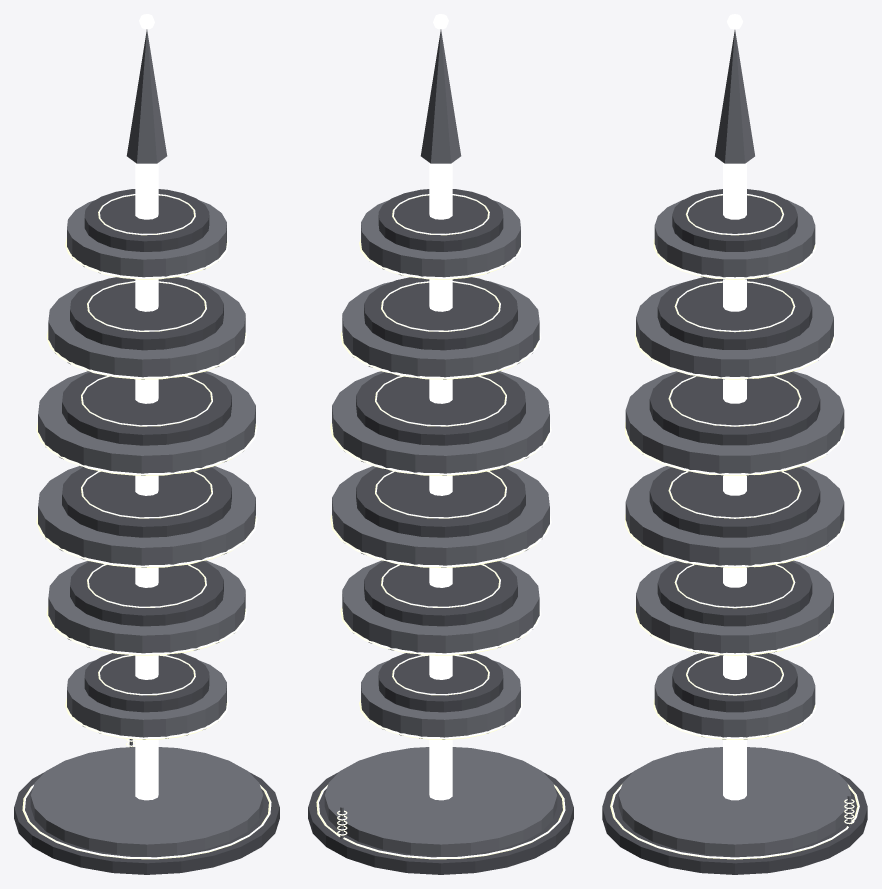
The model's file is zone_high_5_t5.glb.
3 renders of one model, left to right at view 1: azimuth 30°, elevation 25°; view 2: azimuth 150°, elevation 25°; view 3: azimuth 270°, elevation 25°, orthographic.
Parts seen in each view (by area): view 1: zone_high_5_t5, detail; view 2: zone_high_5_t5, detail; view 3: zone_high_5_t5, detail.
Boxes of the visible parts, x1,y1,x2,y2 form: zone_high_5_t5: (14,14,279,874); detail: (81,194,212,747); zone_high_5_t5: (308,14,573,874); detail: (337,194,506,839); zone_high_5_t5: (602,14,867,874); detail: (668,194,854,828).
Size of the model in its own units: 28.8 by 96.24 by 28.8.
